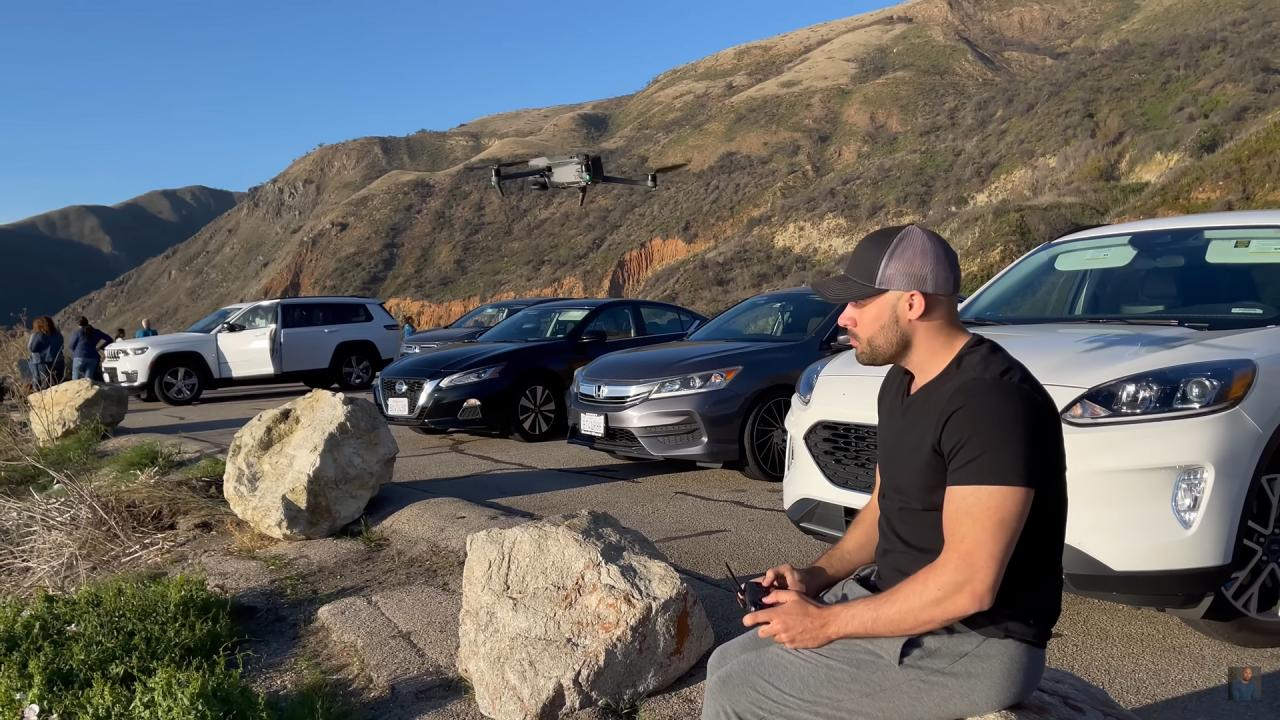Drone: (456, 140, 694, 219)
